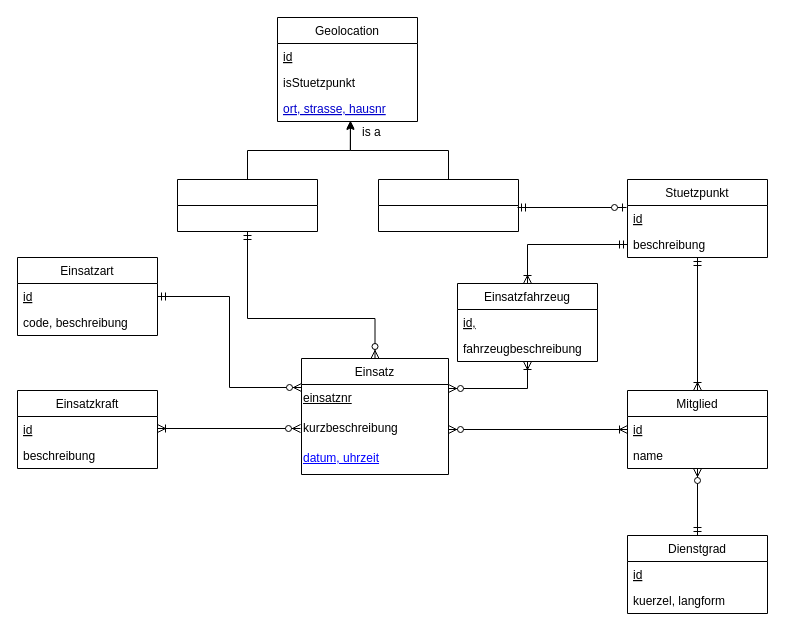
The diagram is 785 pixels wide and 634 high, and some of its shapes have lost their labels. The shapes that lost their labels are listed below. From the top down, each one's centre as x and y in pixels, then its label:
point (247, 205): Einsatzort
point (448, 205): Stuetzpunktort
